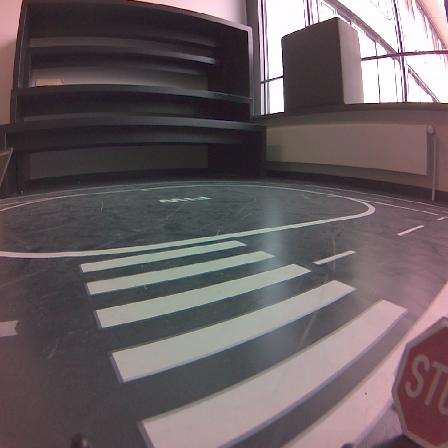STOP: (392, 318, 447, 447)
